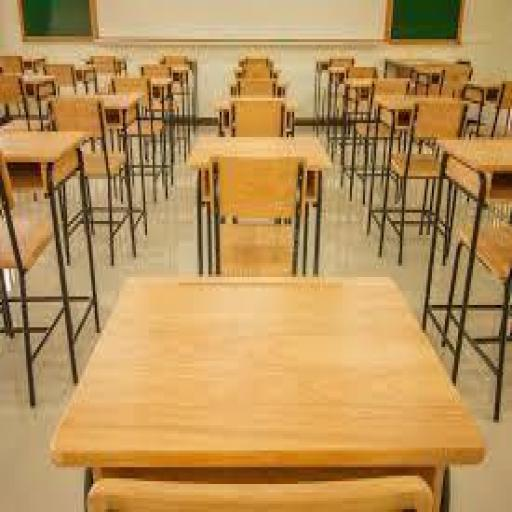chair: (191, 151, 321, 305), (49, 90, 139, 263), (391, 98, 465, 269), (219, 54, 297, 150)
